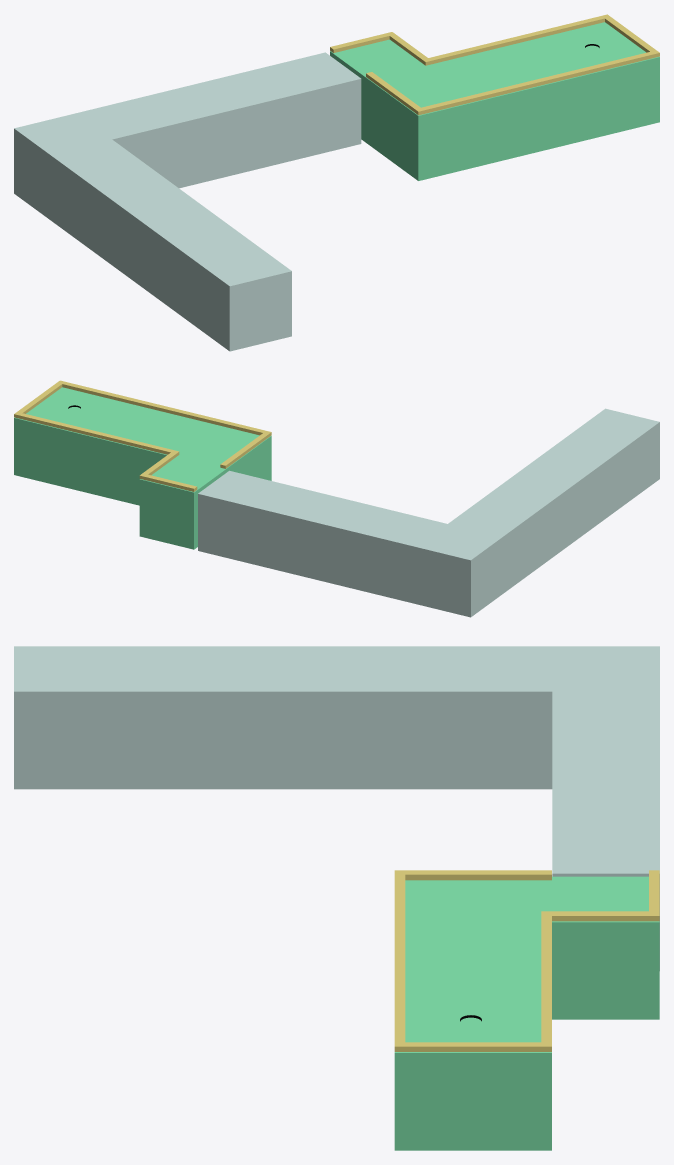
The model's file is titlescreen-course.gltf.
3 renders of one model, top to bottom at view 1: azimuth 30°, elevation 25°; view 2: azimuth 150°, elevation 25°; view 3: azimuth 270°, elevation 25°, orthographic. The views are drawn at different scales.
Parts seen in each view (by area): view 1: Sidewalk, PuttZone, Bounds; view 2: Sidewalk, PuttZone, Bounds; view 3: Sidewalk, PuttZone, Bounds.
Boxes of the visible parts, x1,y1,x2,y2 form: Sidewalk: (14,52,361,351); PuttZone: (330,22,659,180); Bounds: (330,14,659,115); Sidewalk: (198,408,659,617); PuttZone: (14,387,271,549); Bounds: (14,380,271,491); Sidewalk: (14,646,659,970); PuttZone: (394,876,659,1150); Bounds: (394,870,659,1051).
Bounding box in the file's own units: 17.89 × 2.14 × 12.
